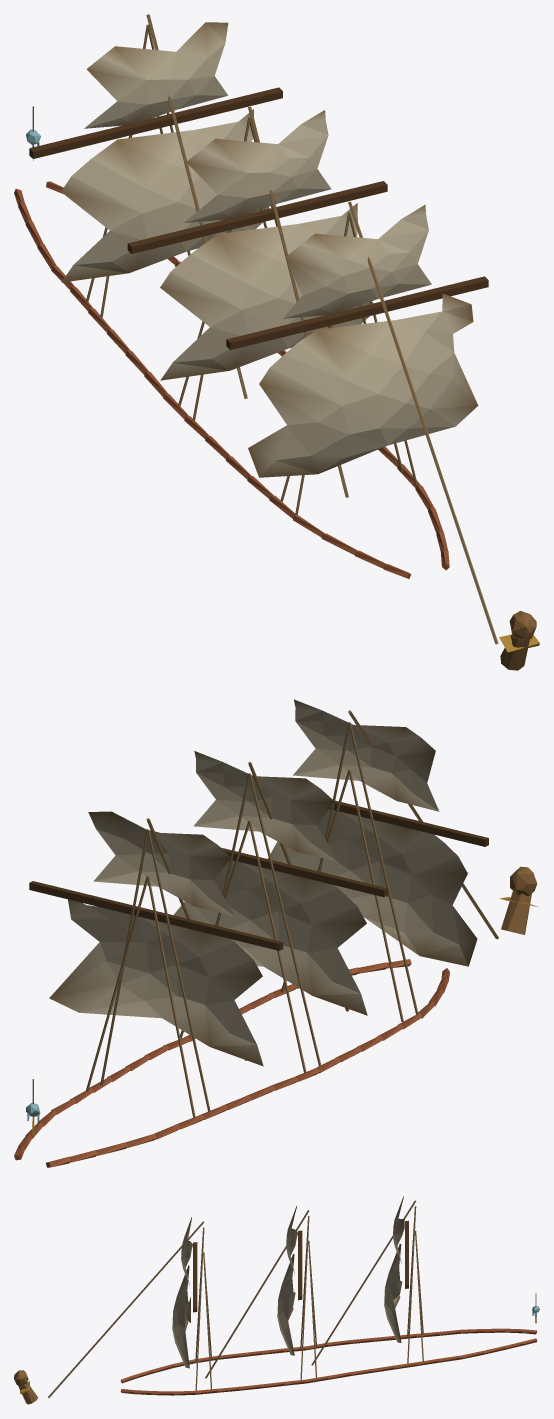
File: upg_galleon_t1_lod1.glb
3 views of the same model, one above another, from view 1: azimuth 30°, elevation 25°; view 2: azimuth 150°, elevation 25°; view 3: azimuth 270°, elevation 25° (orthographic). The views are drawn at different scales.
Visible parts, largest first — view 1: geometry_0; view 2: geometry_0; view 3: geometry_0.
Boxes of the visible parts, bbox=[...] form: geometry_0: bbox=[14, 14, 539, 670]; geometry_0: bbox=[14, 699, 537, 1167]; geometry_0: bbox=[14, 1196, 539, 1404].
Size of the model in its own units: 9.19 by 13.12 by 30.83.
